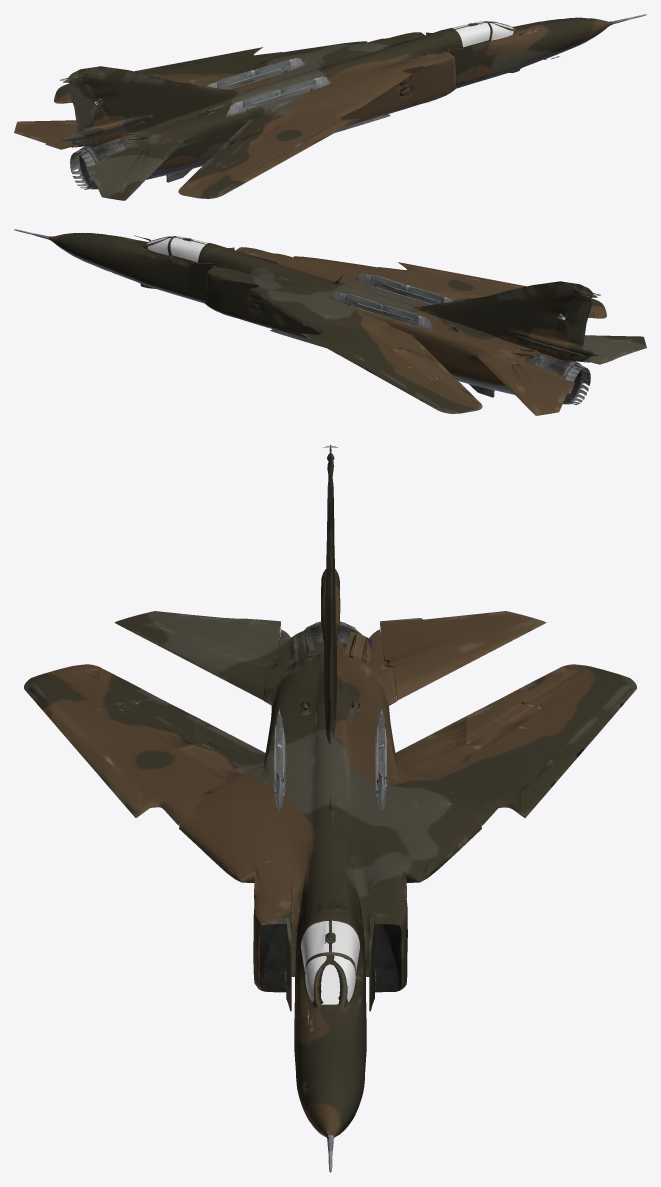
Rendered from fh_battle_fighter_1.glb.
3 renders of one model, top to bottom at view 1: azimuth 30°, elevation 25°; view 2: azimuth 150°, elevation 25°; view 3: azimuth 270°, elevation 25°, orthographic. The views are drawn at different scales.
Parts seen in each view (by area): view 1: fh_battle_fighter_1; view 2: fh_battle_fighter_1; view 3: fh_battle_fighter_1.
Boxes of the visible parts, x1,y1,x2,y2 form: fh_battle_fighter_1: (14, 14, 646, 200); fh_battle_fighter_1: (14, 229, 646, 415); fh_battle_fighter_1: (24, 444, 636, 1172).
Bounding box in the file's own units: 1 × 0.2176 × 0.4508.
2 materials, 1 textured.
